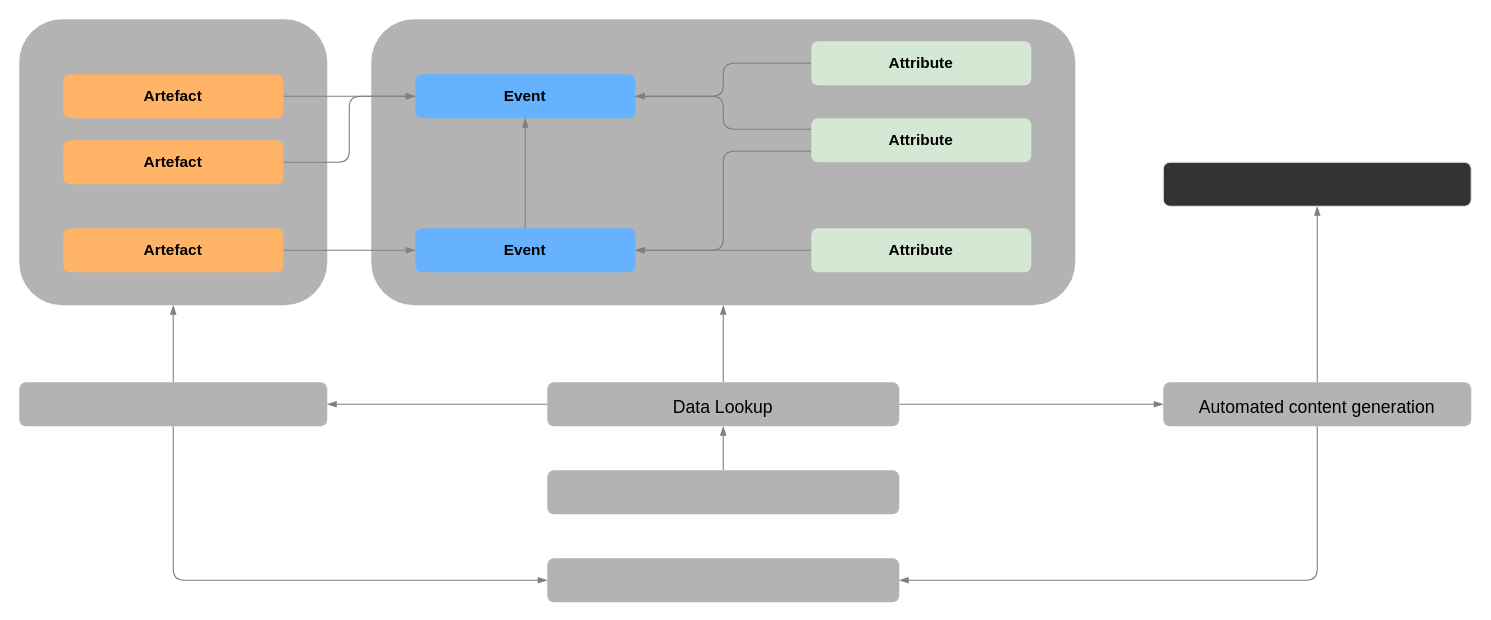
Some shapes in this 1491 by 620 pixel diagram are drawn without their labels. Here are the shapes that lost their labels. From the top down, the centre of each, then its label:
At pixel 1316 183: "ML Blackbox".
At pixel 173 404: "Content query".
At pixel 723 492: "Use-case specific request".
At pixel 723 580: "Use-case specific response".
